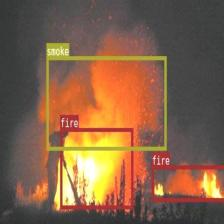fire: (60, 128, 133, 208), (151, 164, 224, 201)
smoke: (46, 56, 166, 150)
